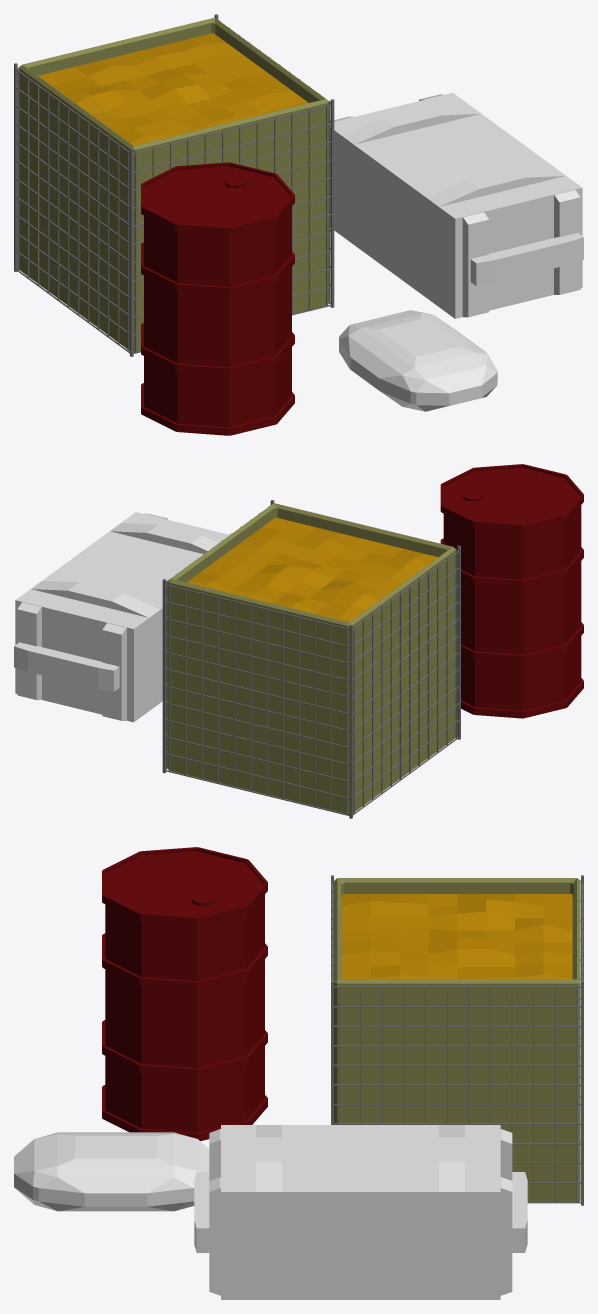
File: details.fbx
The picture shows the model from 3 angles, top to bottom: view 1: azimuth 30°, elevation 25°; view 2: azimuth 150°, elevation 25°; view 3: azimuth 270°, elevation 25°; orthographic projection. The views are drawn at different scales.
Parts seen in each view (by area): view 1: Куб.005, Куб.004, Цилиндр, Cube; view 2: Куб.005, Цилиндр, Куб.004; view 3: Куб.005, Куб.004, Цилиндр, Cube.
Boxes of the visible parts, x1,y1,x2,y2 form: Куб.005: (14,14,334,356); Куб.004: (330,93,583,318); Цилиндр: (141,162,294,435); Cube: (339,310,497,411); Куб.005: (162,500,460,818); Цилиндр: (440,464,583,718); Куб.004: (14,512,230,722); Куб.005: (331,875,583,1205); Куб.004: (194,1125,527,1299); Цилиндр: (102,847,267,1140); Cube: (14,1132,209,1211).
Bounding box in the file's own units: 342 × 151 × 347.
